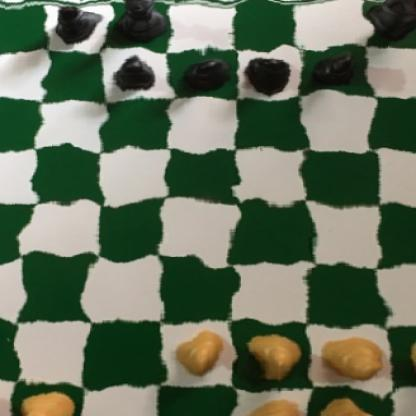black-bishop: (39, 0, 102, 44)
black-pawn: (305, 54, 368, 91), (109, 58, 163, 98), (179, 54, 232, 94), (246, 56, 291, 94)
black-queen: (107, 0, 170, 50)
black-rook: (367, 0, 416, 40)
white-bishop: (9, 386, 78, 416), (245, 392, 310, 416)
white-knight: (320, 396, 391, 416)
white-pawn: (313, 336, 386, 385), (244, 331, 302, 386), (171, 324, 220, 380), (403, 335, 416, 386)
